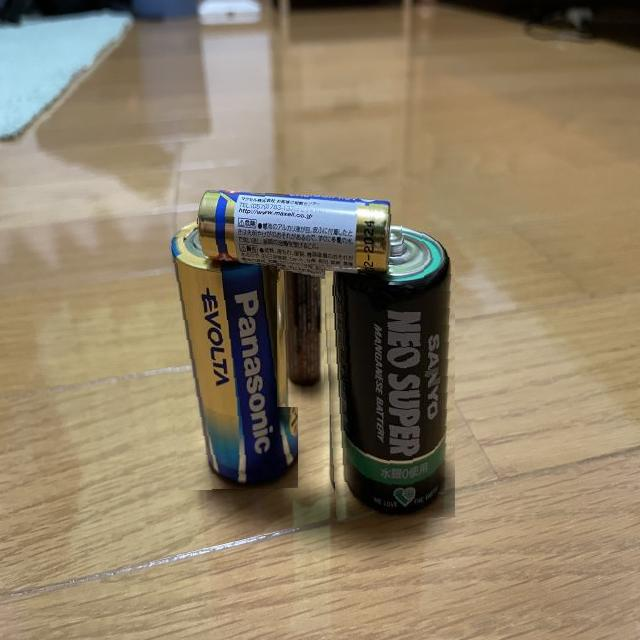battery: (320, 220, 456, 522), (164, 214, 298, 490), (196, 177, 402, 288), (277, 261, 325, 407)
